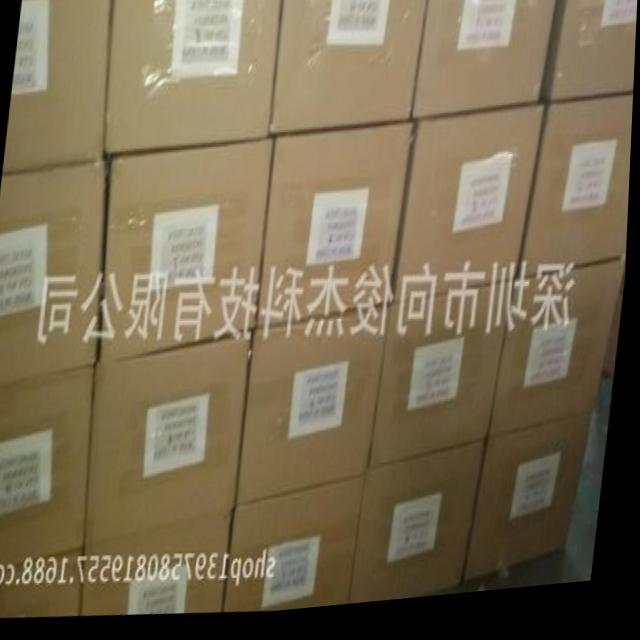box: (100, 142, 273, 368), (88, 335, 256, 549), (259, 126, 415, 335), (239, 310, 394, 514), (393, 111, 545, 310), (105, 0, 282, 162), (372, 290, 517, 477), (492, 270, 629, 446), (0, 162, 105, 390), (352, 449, 492, 612), (271, 0, 428, 142), (470, 422, 597, 590), (520, 107, 635, 288), (0, 368, 99, 576), (229, 477, 372, 617), (5, 0, 111, 174), (412, 0, 557, 124), (86, 514, 239, 618), (540, 0, 638, 113), (0, 551, 87, 616)
